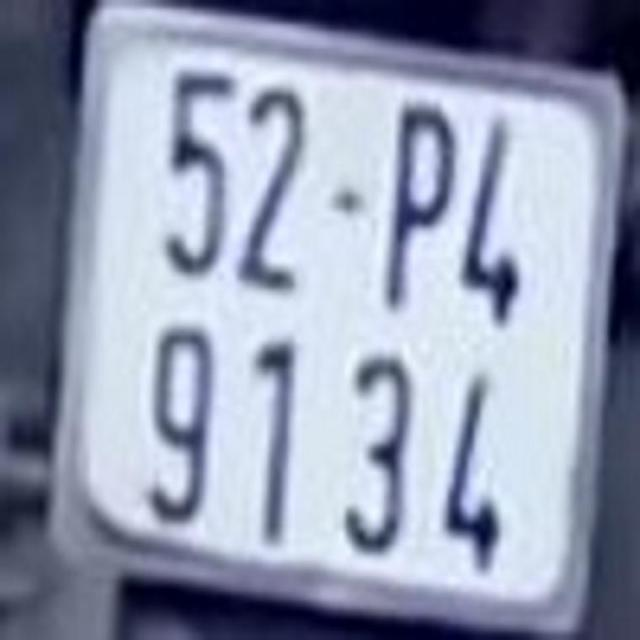1: (250, 334, 289, 540)
2: (234, 84, 304, 290)
3: (348, 352, 410, 551)
4: (438, 368, 502, 574), (470, 112, 522, 330)
5: (166, 73, 227, 274)
9: (149, 324, 208, 524)
P: (389, 99, 462, 319)
